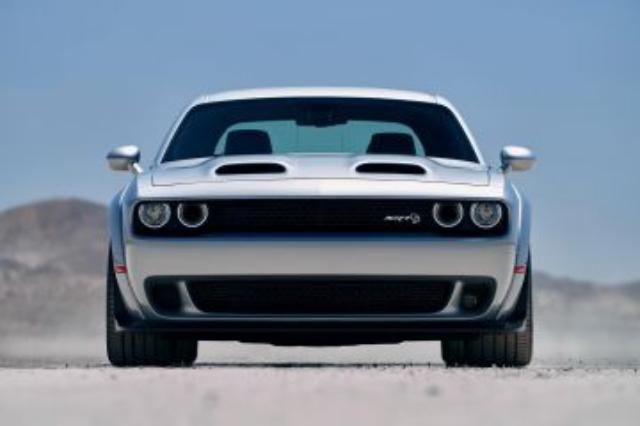dodge: (105, 86, 535, 368)
